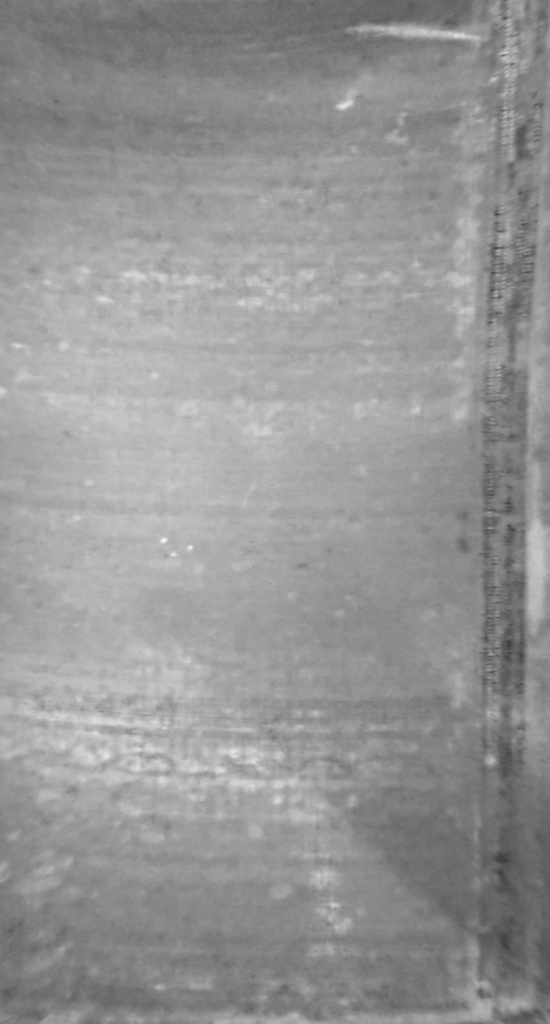splice: (447, 1, 550, 1023)
